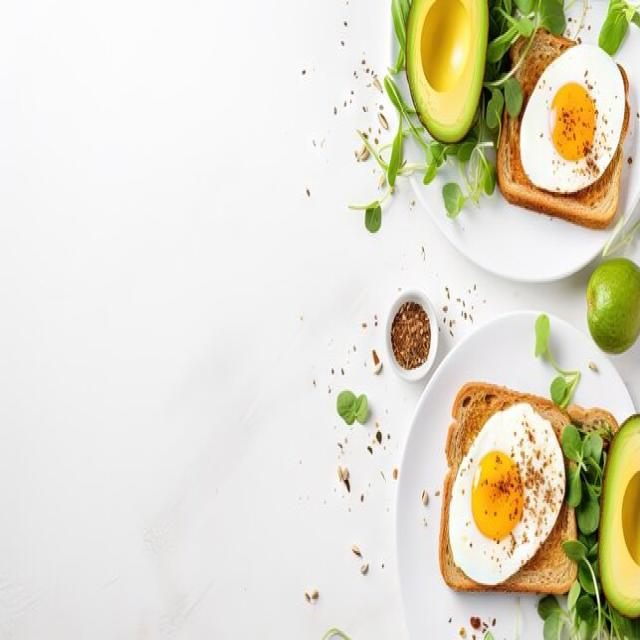Egg: (449, 402, 565, 584), (521, 45, 625, 193)
